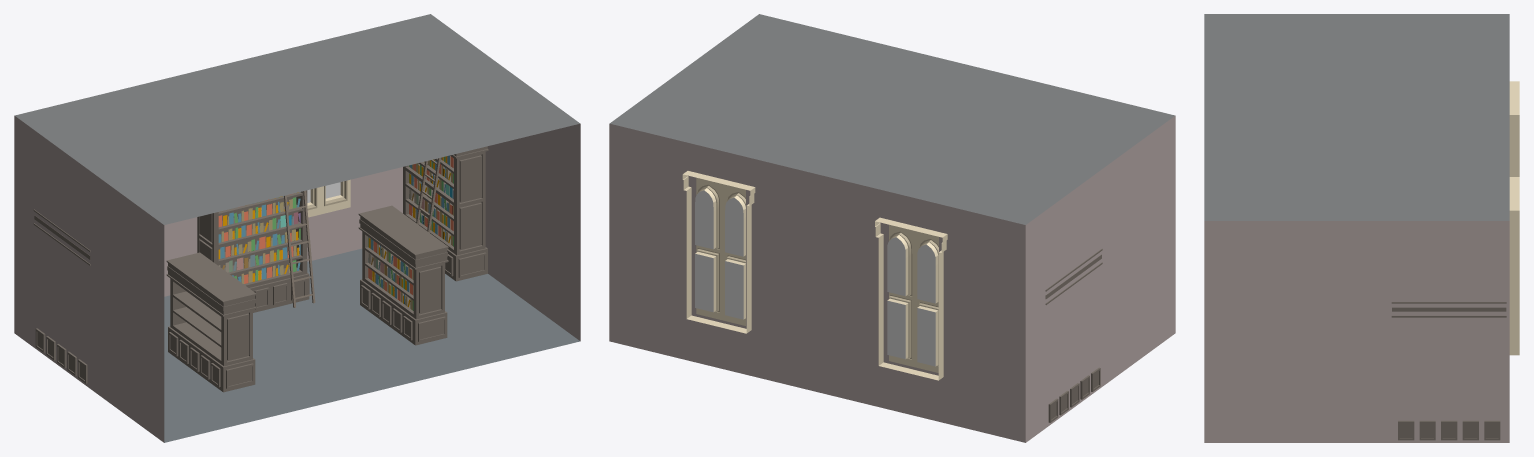
The model's file is LibraryFull 03.fbx.
The picture shows the model from 3 angles, left to right: view 1: azimuth 30°, elevation 25°; view 2: azimuth 150°, elevation 25°; view 3: azimuth 270°, elevation 25°; orthographic projection.
Parts seen in each view (by area): view 1: Buidling, BooksShelf6, BooksShelf3, Bookschelf1, Bookschelf2, Bookschelf3, Window6, BooksForShelf3, BooksForShelf4, BooksForShelf5, BooksForShelf2, BooksForShelf1; view 2: Buidling, Window6, Window4, Bookschelf3; view 3: Buidling, Bookschelf1, Window6, Window4.
Boxes of the visible parts, x1,y1,x2,y2 form: Buidling: [14, 14, 580, 442]; BooksShelf6: [166, 252, 256, 392]; BooksShelf3: [358, 205, 448, 345]; Bookschelf1: [403, 146, 488, 281]; Bookschelf2: [197, 190, 309, 312]; Bookschelf3: [33, 209, 90, 383]; Window6: [307, 179, 350, 217]; BooksForShelf3: [218, 228, 300, 259]; BooksForShelf4: [218, 212, 300, 242]; BooksForShelf5: [218, 197, 300, 227]; BooksForShelf2: [218, 244, 300, 272]; BooksForShelf1: [232, 260, 300, 284]; Buidling: [609, 14, 1175, 442]; Window6: [682, 171, 755, 333]; Window4: [875, 217, 947, 380]; Bookschelf3: [1045, 248, 1102, 422]; Buidling: [1204, 14, 1509, 442]; Bookschelf1: [1391, 302, 1506, 440]; Window6: [1509, 177, 1519, 355]; Window4: [1509, 81, 1519, 176].
Size of the model in its own units: 13.11 by 6.5 by 8.37.
